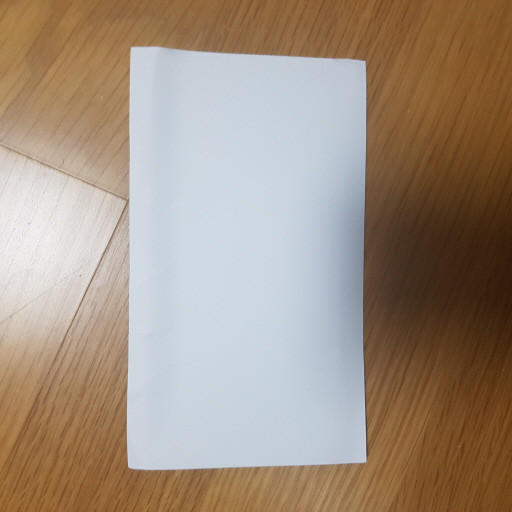Paper_2: (124, 41, 381, 476)
